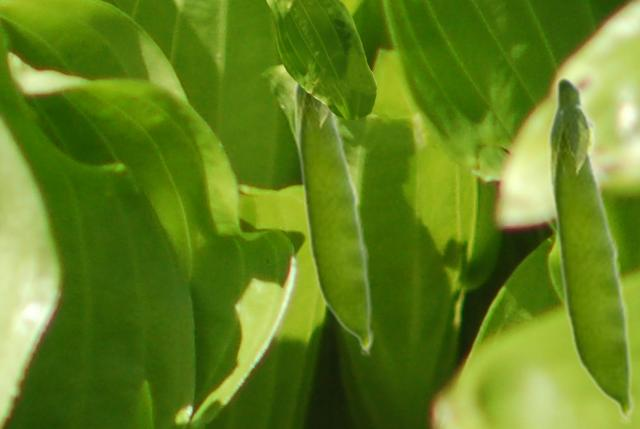pea: (546, 74, 635, 423), (292, 80, 374, 355)
